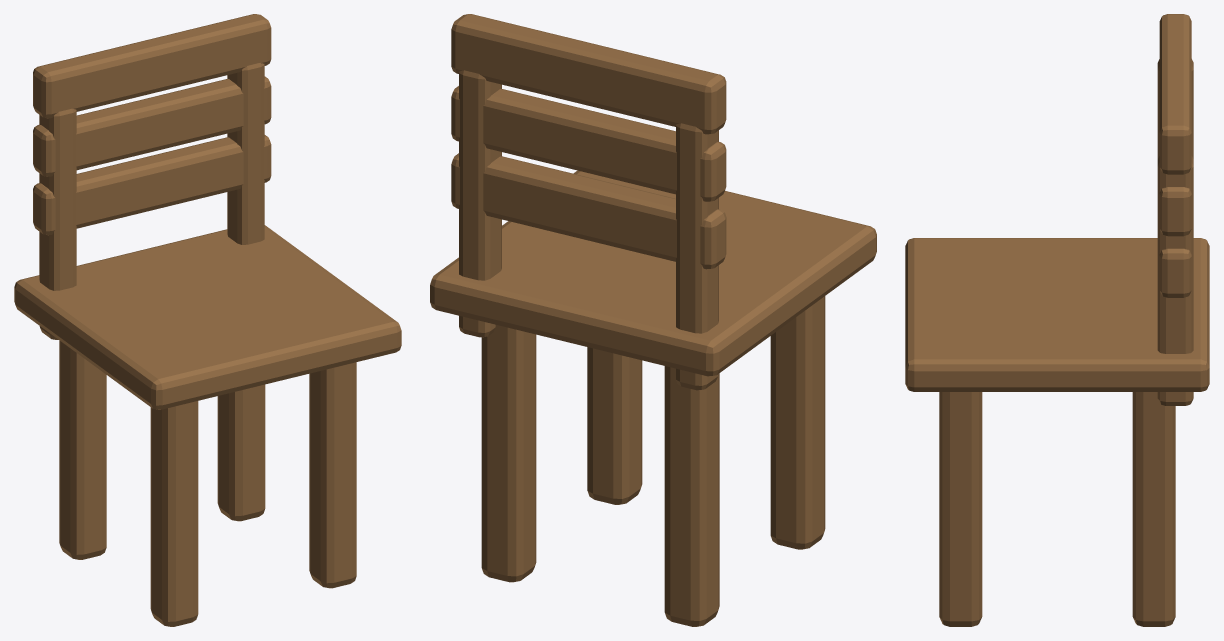
Rendered from better.glb.
3 renders of one model, left to right at view 1: azimuth 30°, elevation 25°; view 2: azimuth 150°, elevation 25°; view 3: azimuth 270°, elevation 25°, orthographic. The views are drawn at different scales.
Visible parts, largest first — view 1: Back slat; view 2: Back slat; view 3: Back slat.
Boxes of the visible parts, left/top/right/bottom form: Back slat: left=14, top=14, right=401, bottom=626; Back slat: left=430, top=14, right=876, bottom=626; Back slat: left=905, top=14, right=1209, bottom=626.
Size of the model in its own units: 1.06 by 1.97 by 1.06.
